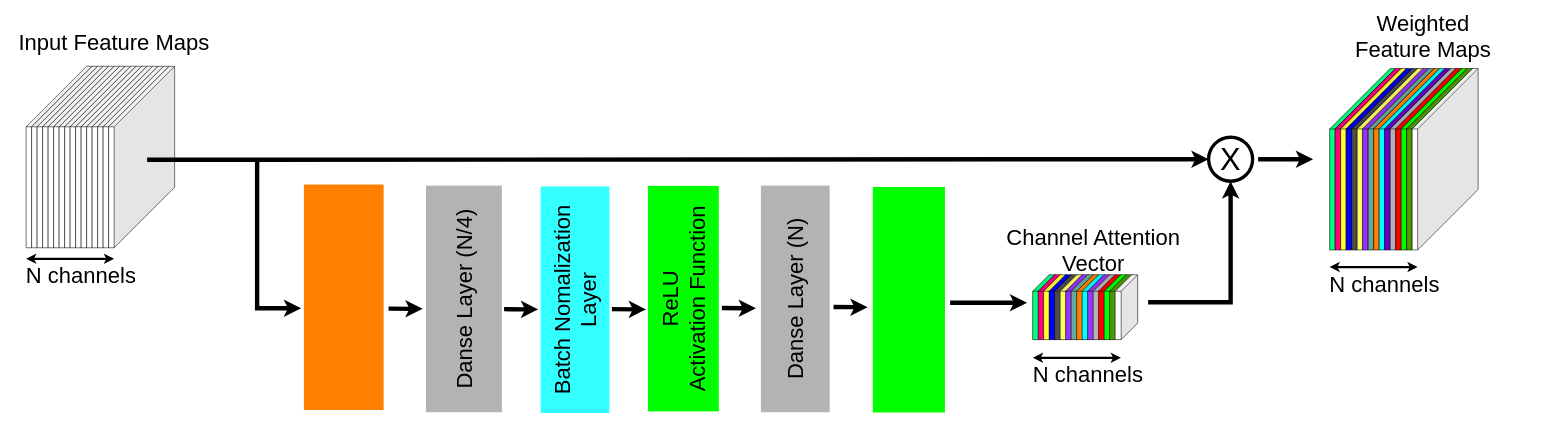
Some shapes in this 1556 by 422 pixel diagram are drawn without their labels. The shapes that lost their labels are listed below. From the top down, each one's centre as x and y in pixels, then its label:
the point at 343,297: Global Average Pooling
the point at 909,299: Sigmoid Activation Function
